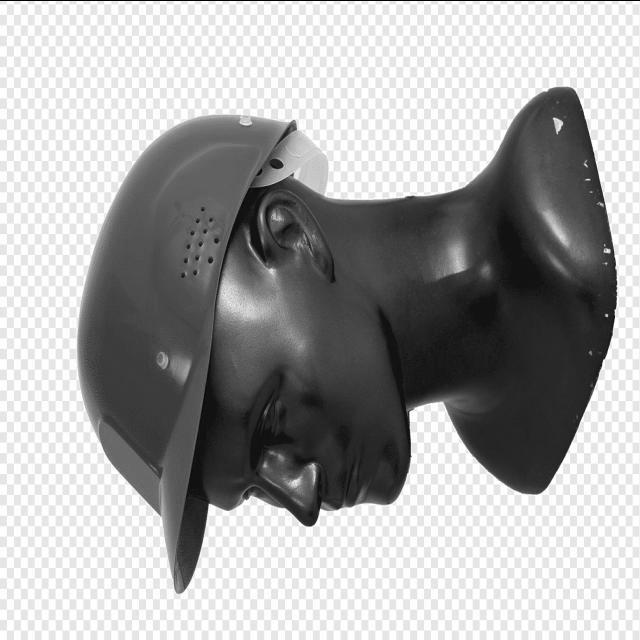construction helmet: (77, 113, 298, 593)
